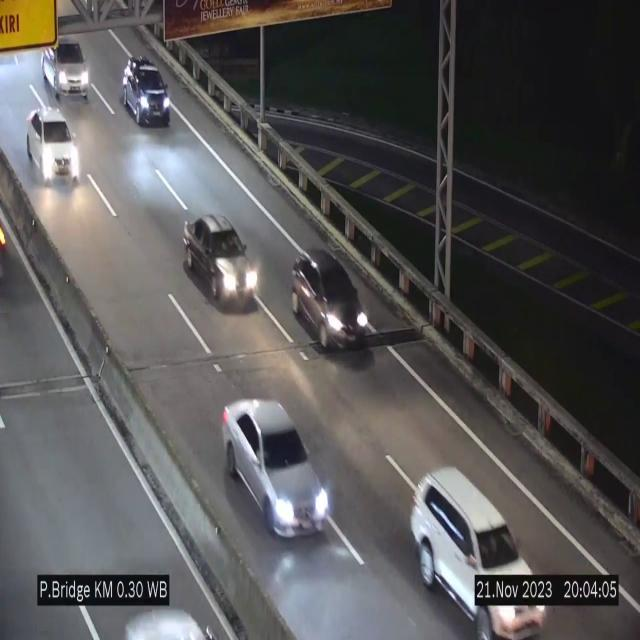Car: (411, 468, 552, 638), (222, 400, 333, 536), (289, 245, 373, 358), (182, 207, 260, 317), (26, 108, 84, 188), (38, 34, 96, 103), (122, 57, 170, 126)
